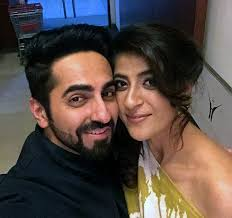Bad: (1, 24, 232, 218)
